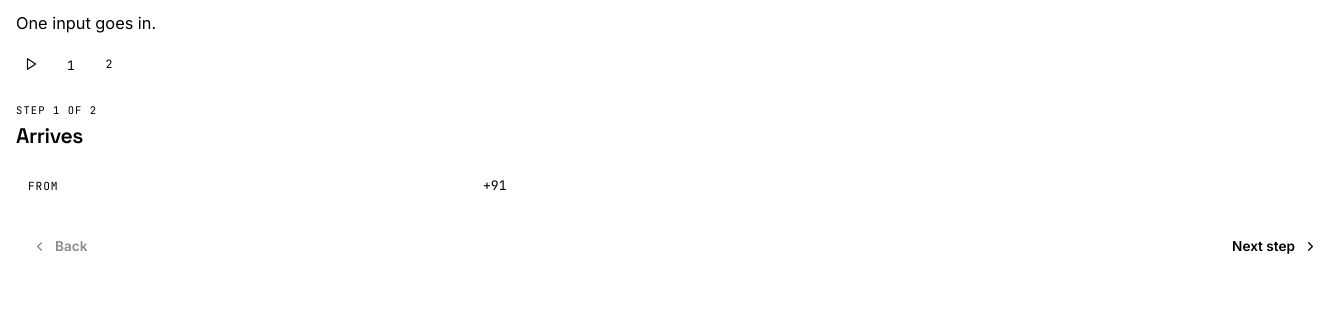
Scenario: WorkedExample › auto-plays through the steps and stops at the end
What coordinates should you click on to do the following:
click the button named "Play"
I would click on:
 (31, 64)
Its box is [16, 49, 46, 79].
Wait 2300 ms
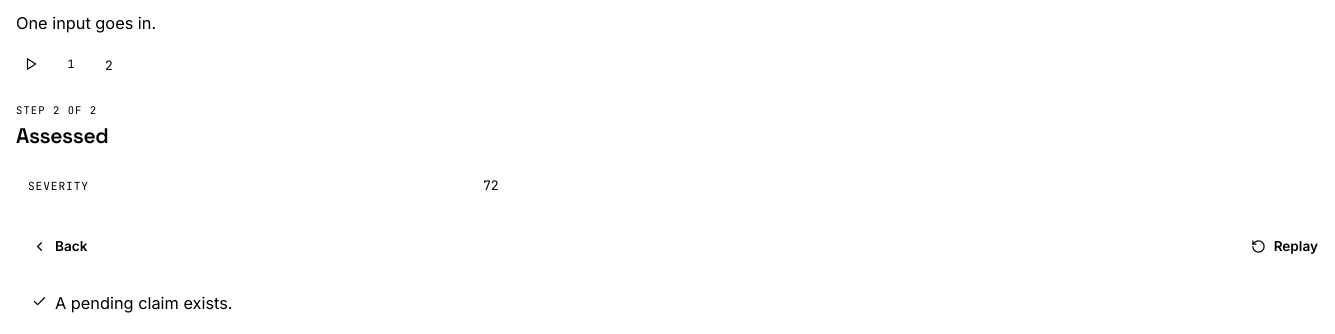
Check: the heading "Assessed" is shown, box [16, 122, 108, 149]
Check: the text "A pending claim exists." is shown, box [55, 290, 232, 317]
